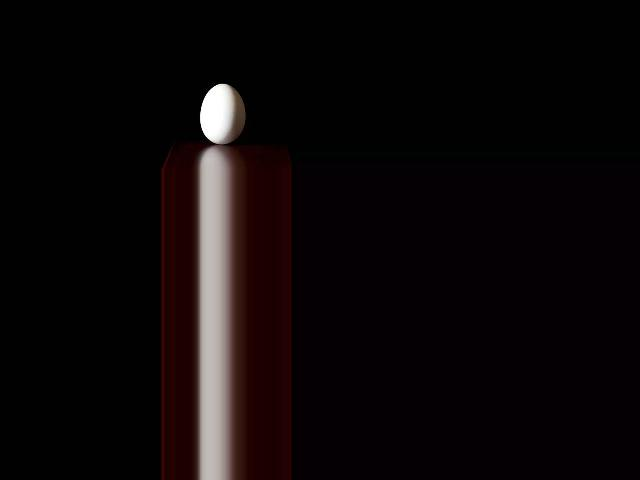egg: (199, 84, 244, 145)
